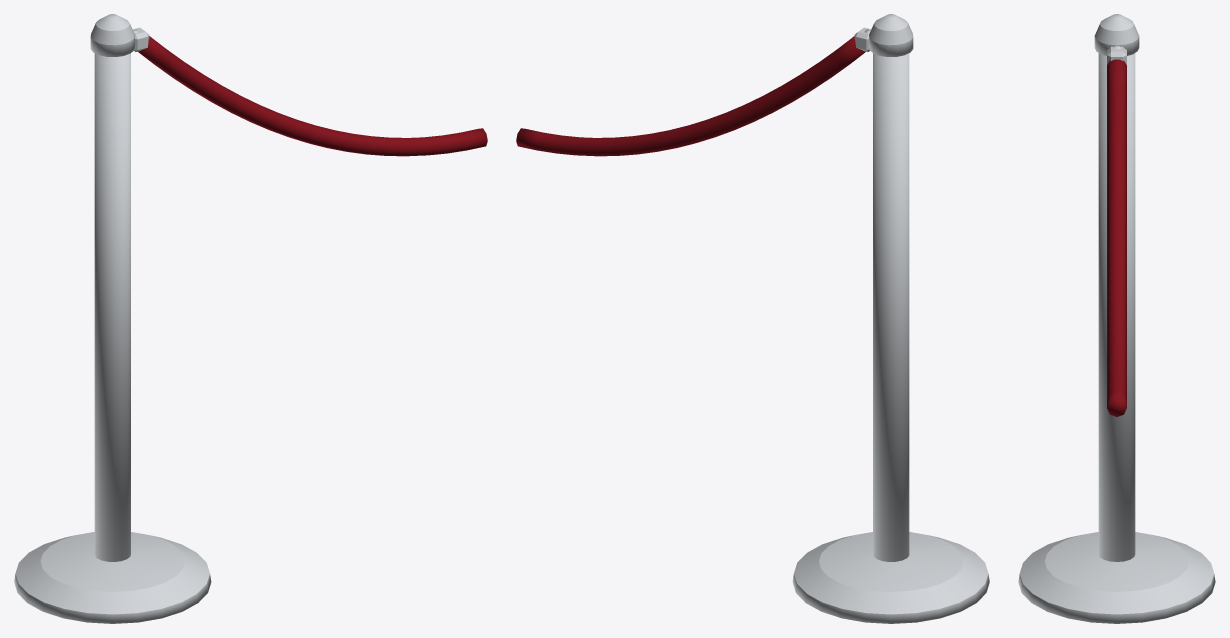
Rendered from PosteDeFila.fbx.
3 views of the same model, side by side, from view 1: azimuth 30°, elevation 25°; view 2: azimuth 150°, elevation 25°; view 3: azimuth 270°, elevation 25° (orthographic).
Visible parts, largest first — view 1: PosteDeFila; view 2: PosteDeFila; view 3: PosteDeFila.
Part boxes in pixels (bbox=[...]): PosteDeFila: bbox=[14, 14, 487, 623]; PosteDeFila: bbox=[516, 14, 989, 623]; PosteDeFila: bbox=[1018, 14, 1215, 623].
Bounding box in the file's own units: 0.8004 × 0.95 × 0.3.
